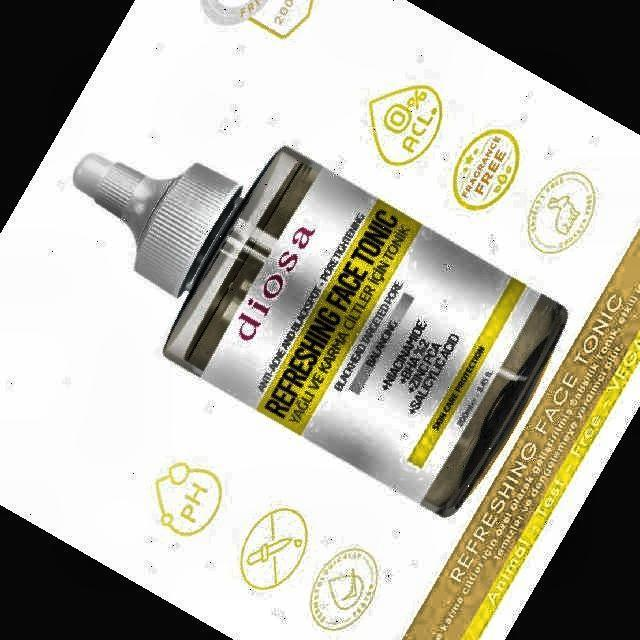plastic: (74, 148, 566, 514)
